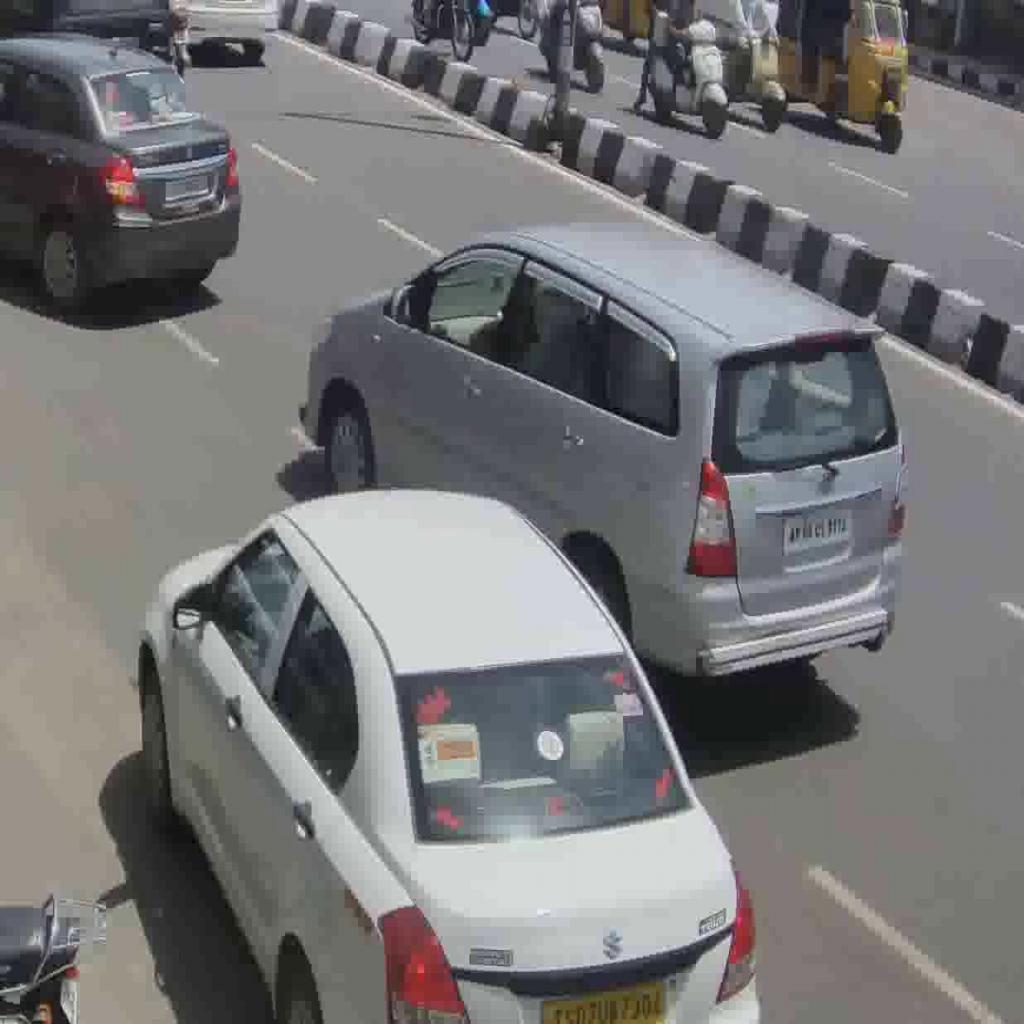helmet: (641, 16, 728, 140), (720, 24, 784, 131)
